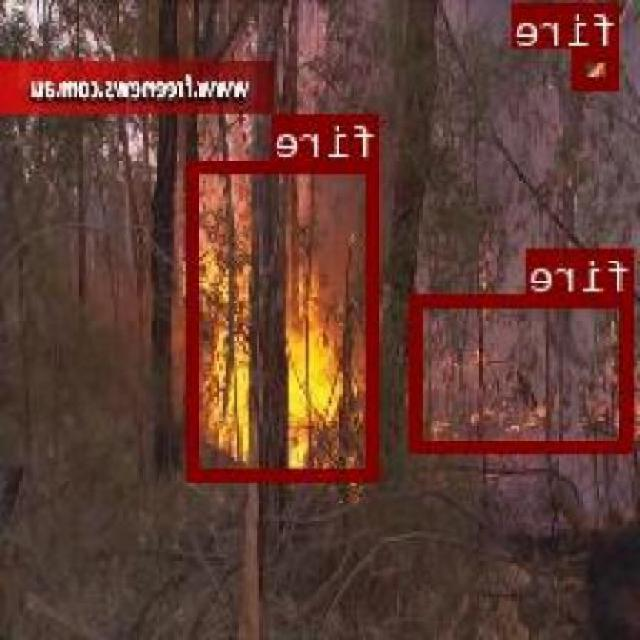Fire: (191, 158, 380, 480), (414, 292, 637, 450), (576, 46, 622, 88)
